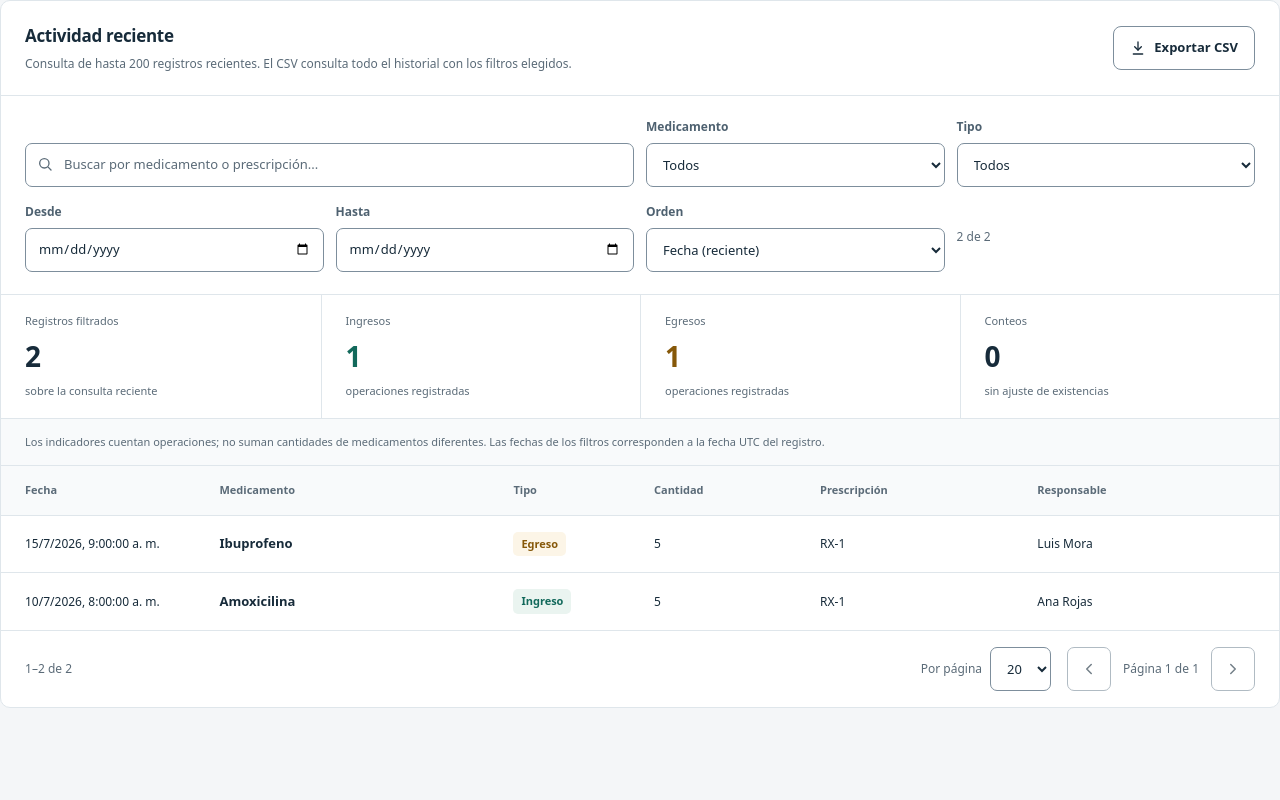
Test case: MovementsTab › filtra por texto de medicamento
The width and height of the screenshot is (1280, 800).
Type "ibupro" into the field named "Buscar movimientos" at (330, 165), box x1=25 y1=143 x2=634 y2=187
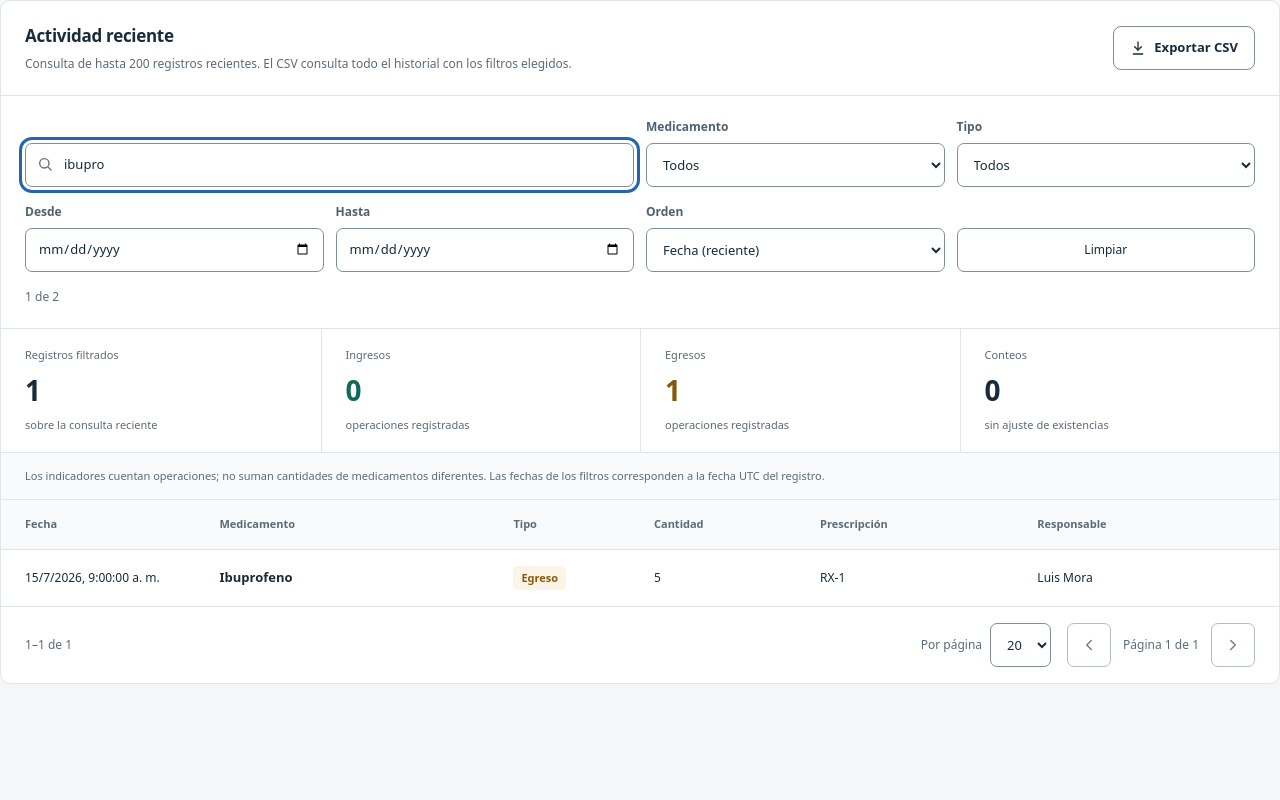
Expected: the text "Ibuprofeno" is shown, x1=220 y1=568 x2=293 y2=586
Expected: the text "Amoxicilina" is gone
